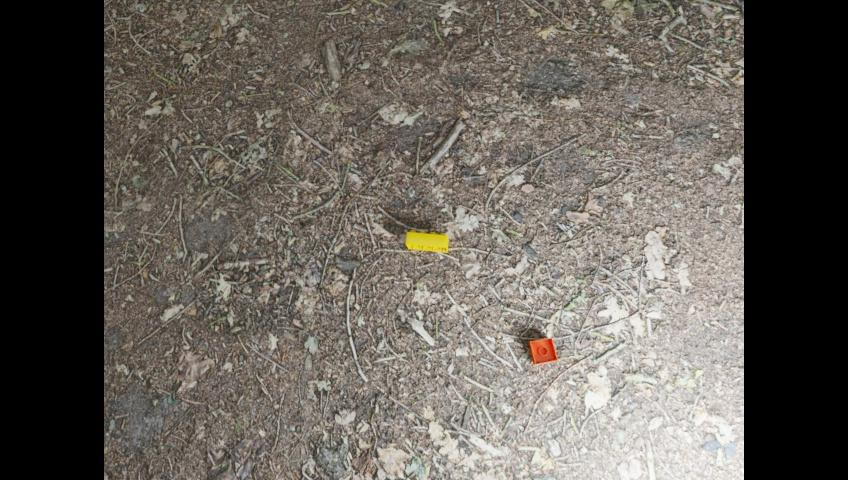2x2_orange: (528, 337, 557, 364)
4x2_yellow: (405, 230, 449, 253)
